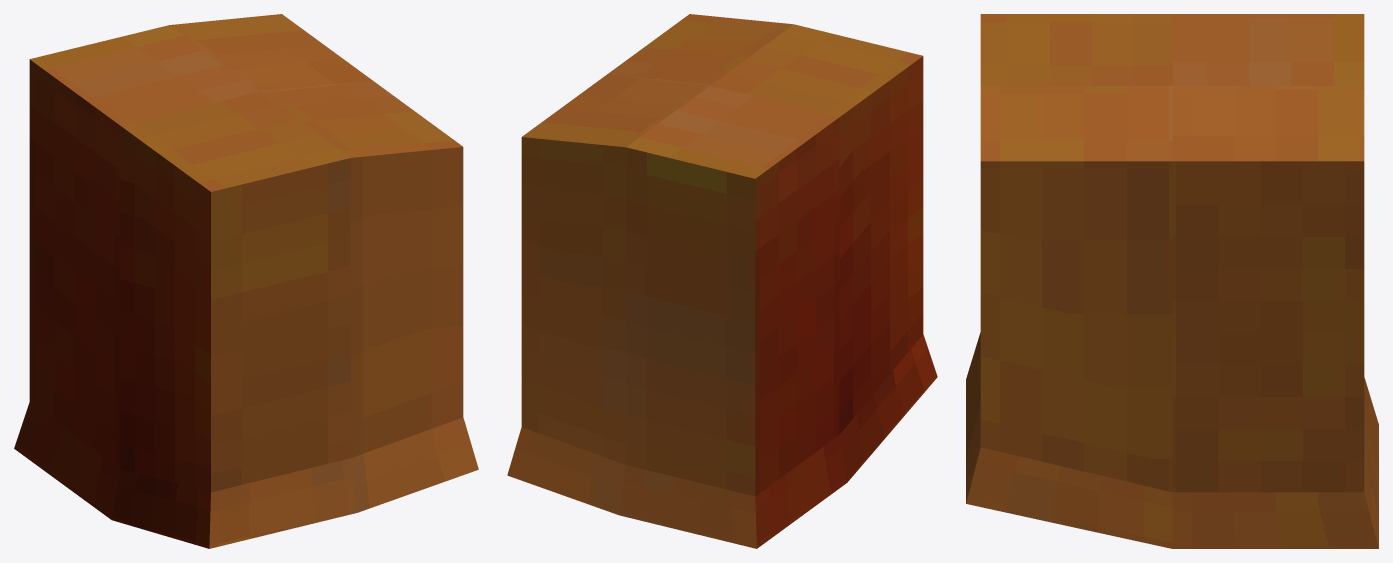
The model's file is CopperPauldronL.glb.
The picture shows the model from 3 angles, left to right: view 1: azimuth 30°, elevation 25°; view 2: azimuth 150°, elevation 25°; view 3: azimuth 270°, elevation 25°; orthographic projection. The views are drawn at different scales.
Parts seen in each view (by area): view 1: copper chestplate L; view 2: copper chestplate L; view 3: copper chestplate L.
Part boxes in pixels (x1,y1,x2,y2): copper chestplate L: (14,14,478,548); copper chestplate L: (507,14,937,548); copper chestplate L: (966,14,1378,548).
Bounding box in the file's own units: 0.1972 × 0.2744 × 0.2475.
Materials: 1 (1 with a texture image).
